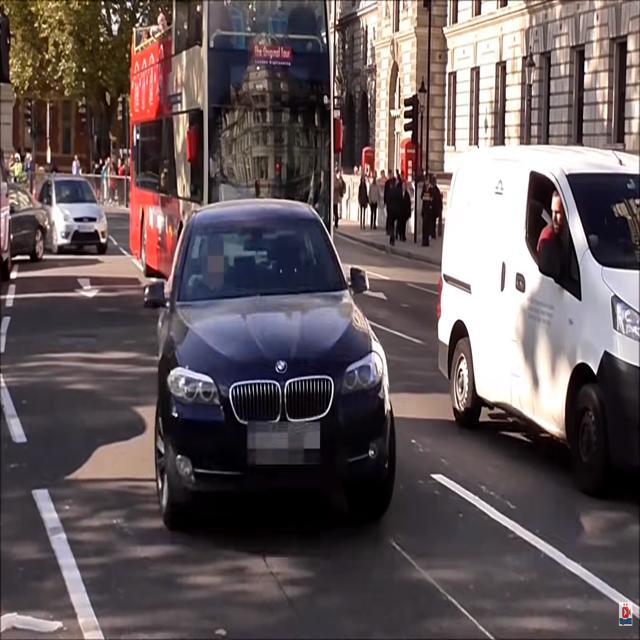emergency-vehicles: (146, 192, 403, 543)
